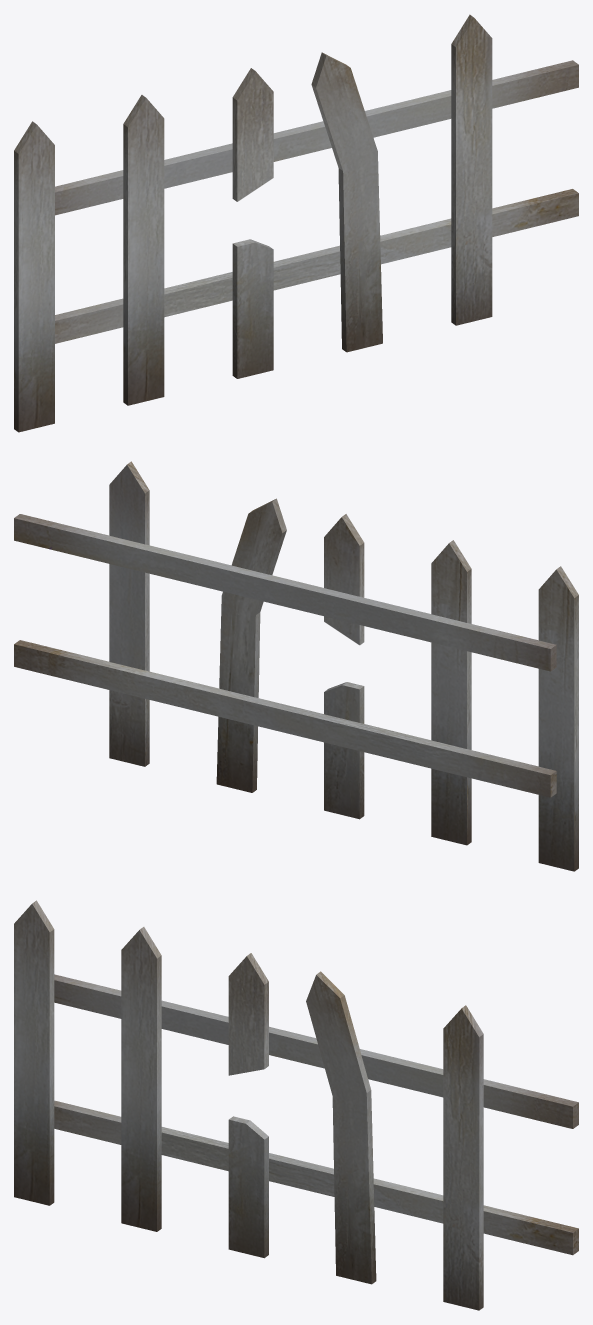
Rendered from Fence_1.fbx.
The picture shows the model from 3 angles, top to bottom: view 1: azimuth 30°, elevation 25°; view 2: azimuth 150°, elevation 25°; view 3: azimuth 330°, elevation 25°; orthographic projection.
Visible parts, largest first — view 1: Fence_1; view 2: Fence_1; view 3: Fence_1.
Part boxes in pixels (<box>): Fence_1: <box>14,14,578,432</box>; Fence_1: <box>14,461,578,871</box>; Fence_1: <box>14,900,578,1310</box>.
Bounding box in the file's own units: 155 × 79.56 × 5.03.
